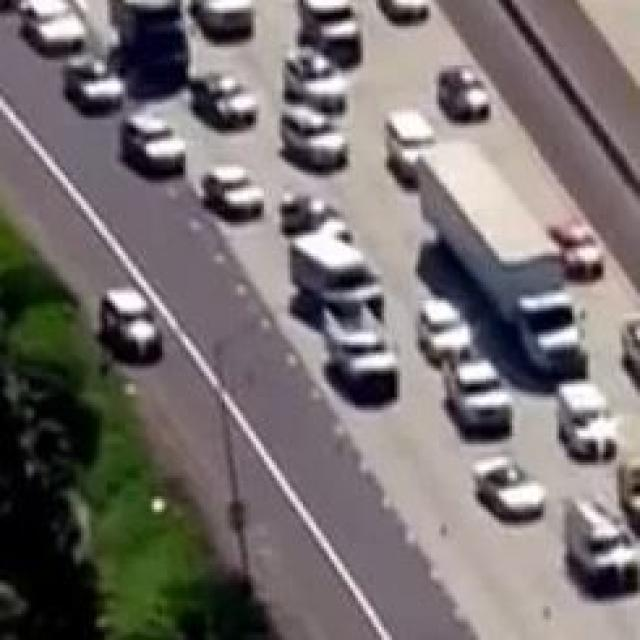traffic_incident: (282, 232, 405, 408)
